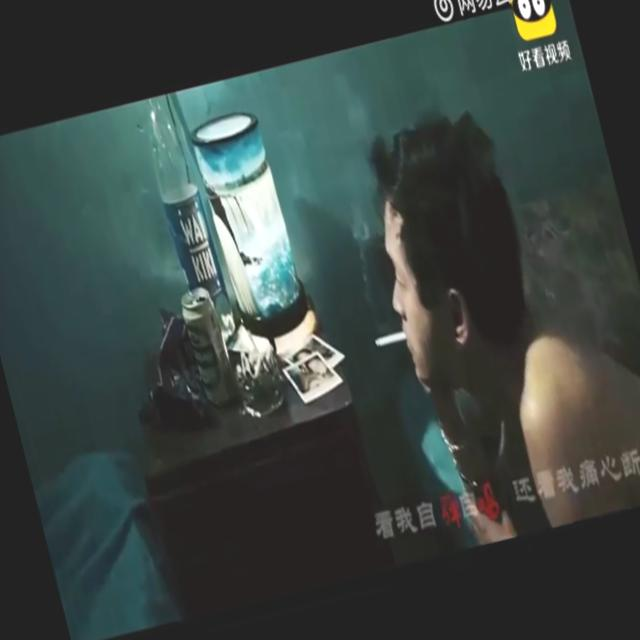cigarette: (370, 328, 408, 354)
